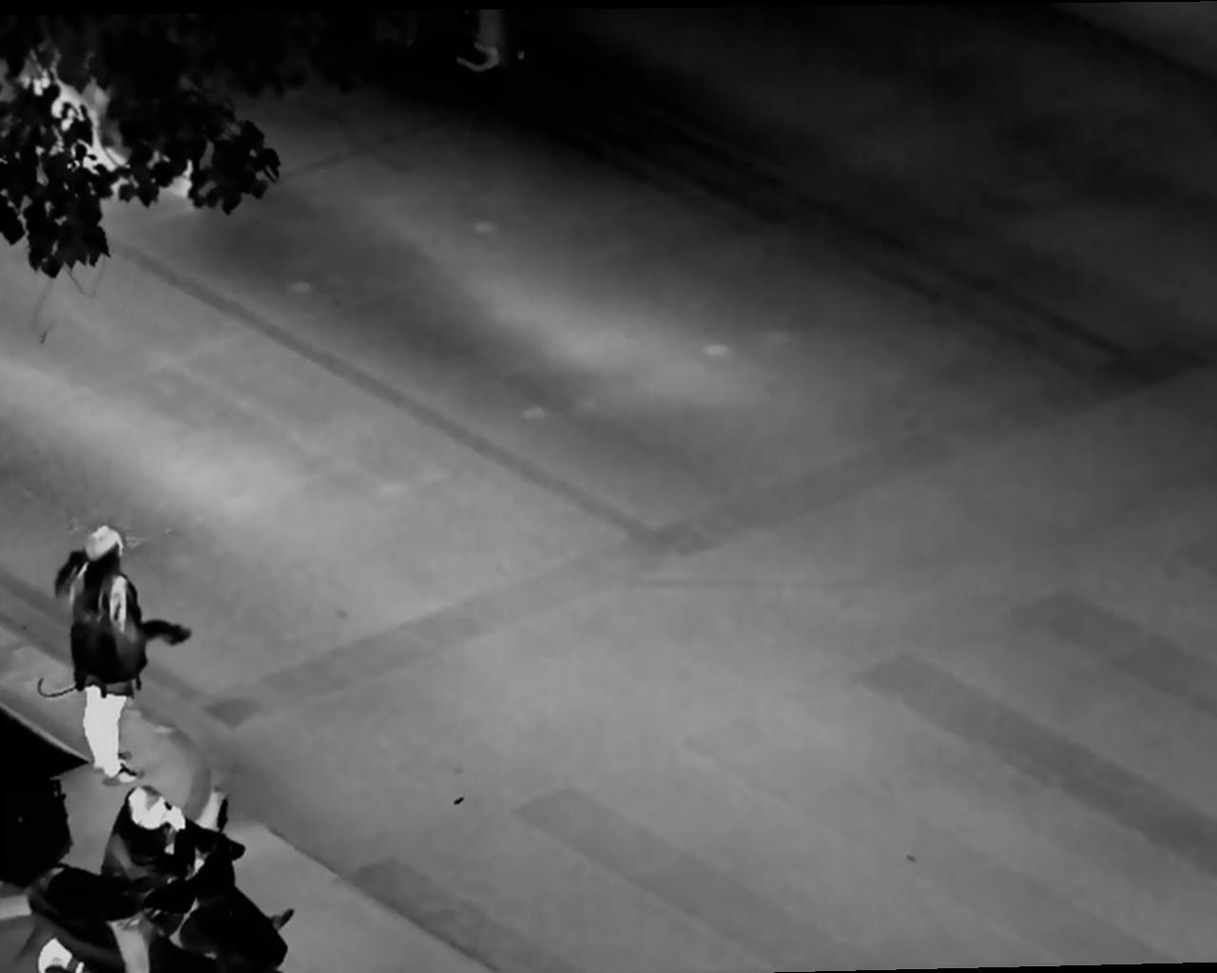person: (68, 528, 187, 791), (98, 788, 211, 967)
